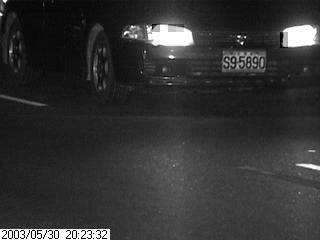plate: (221, 47, 267, 73)
